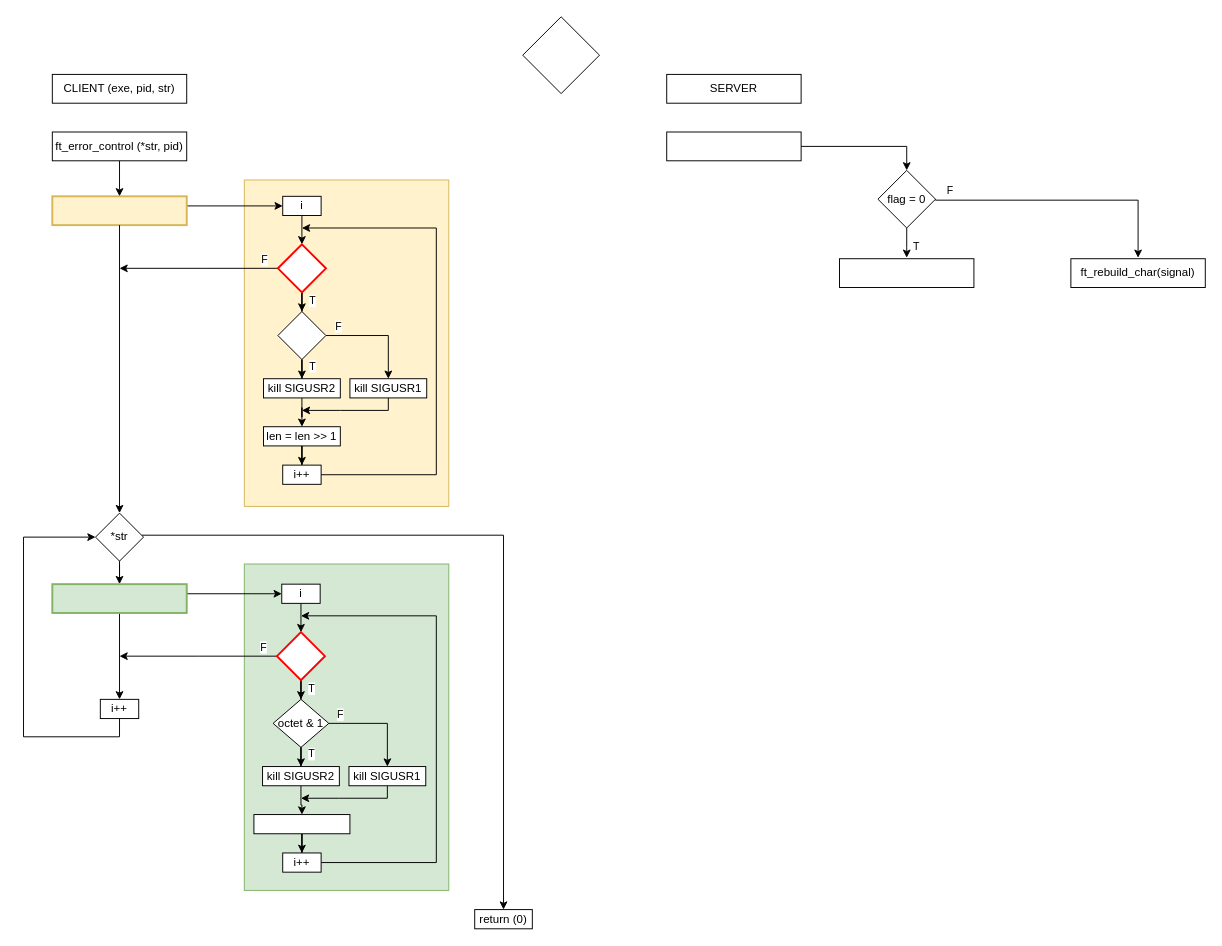
This 1222x946 diagram has some shape labels left out. The box of each missing label's shape, as (x1, y1, x2, y2) in pixels:
ft_rebuild_buffer(signal): (666, 131, 801, 161)
ft_rebuild_bufsize(signal): (839, 258, 974, 288)
ft_send_signal (pid, octet): (51, 583, 187, 613)
ft_send_strlen (pid, len): (51, 195, 187, 226)
i < 32: (276, 243, 326, 293)
i < 8: (276, 631, 325, 681)
len & 1: (277, 311, 326, 360)
octet = octet >> 1: (253, 814, 350, 834)
signal = SIGUSR2: (522, 16, 600, 94)
